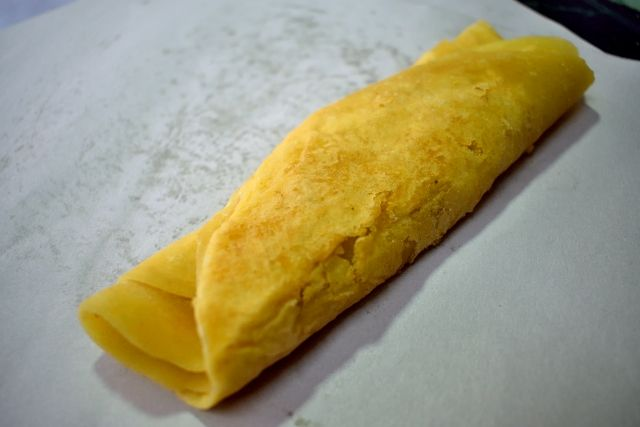Farata: (59, 7, 624, 397)
